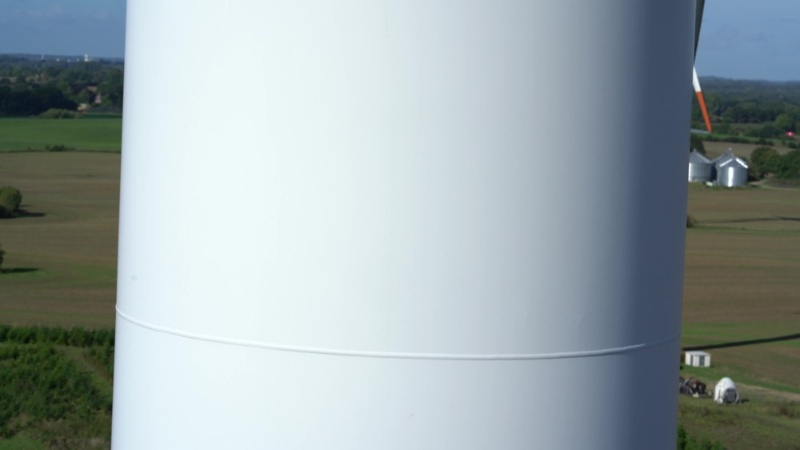weldseam: (114, 300, 681, 365)
